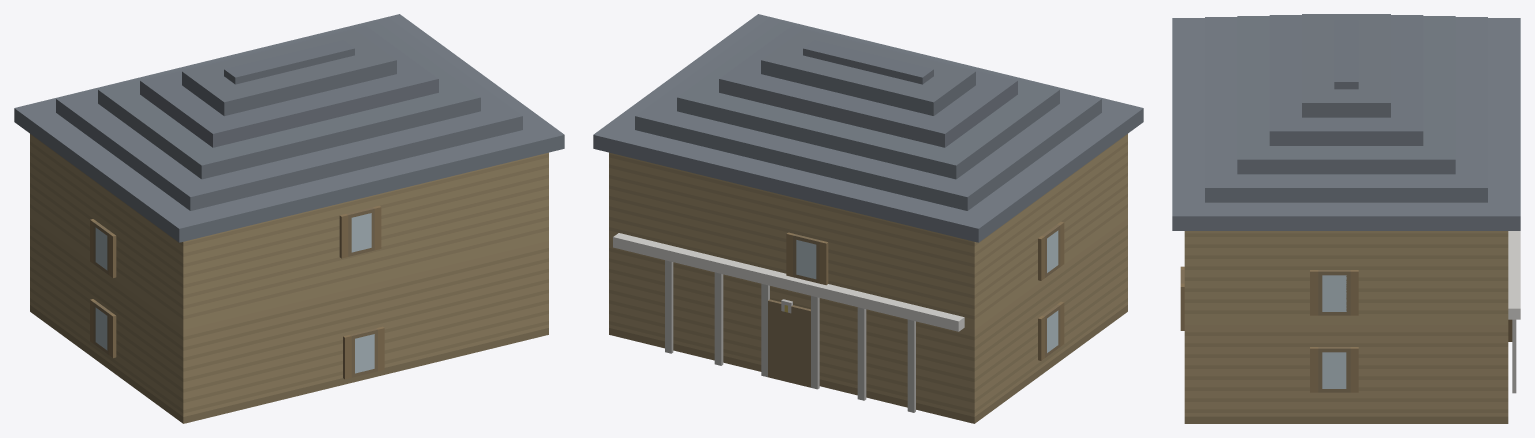
The model's file is escuela_04.glb.
3 views of the same model, side by side, from view 1: azimuth 30°, elevation 25°; view 2: azimuth 150°, elevation 25°; view 3: azimuth 270°, elevation 25° (orthographic). The views are drawn at different scales.
Parts seen in each view (by area): view 1: escuela_04; view 2: escuela_04; view 3: escuela_04.
Part boxes in pixels (x1,y1,x2,y2): escuela_04: [14, 14, 564, 423]; escuela_04: [593, 14, 1143, 423]; escuela_04: [1172, 14, 1520, 423].
Bounding box in the file's own units: 11.6 × 7.6 × 8.6.
